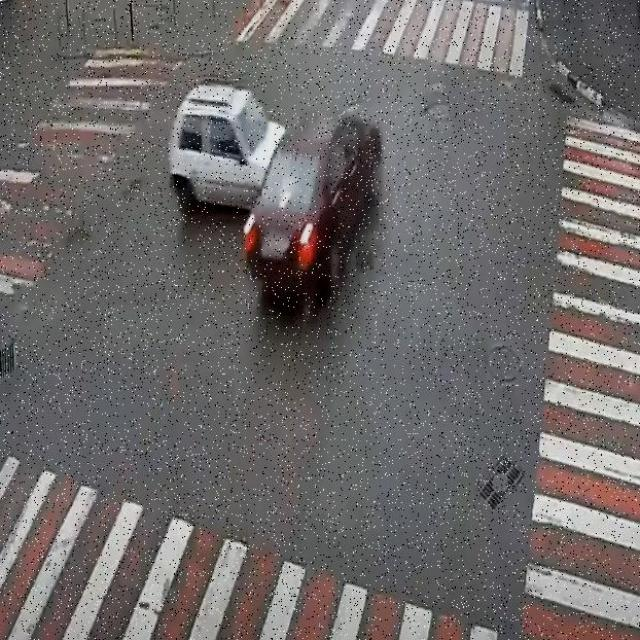accident: (167, 76, 386, 316)
